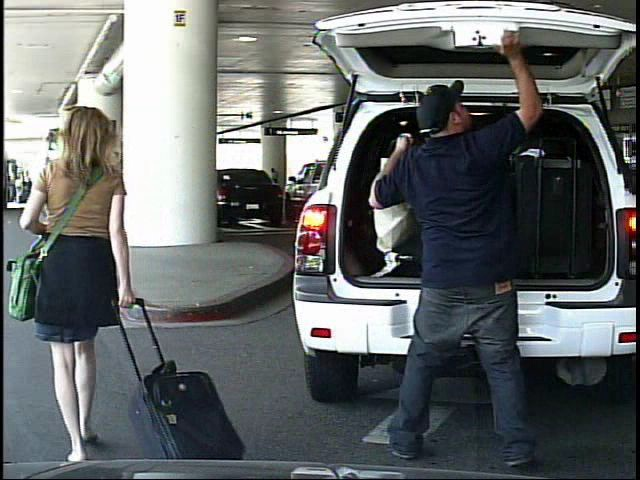person: (373, 15, 557, 479), (47, 100, 185, 446), (266, 165, 282, 203), (16, 173, 27, 204)
